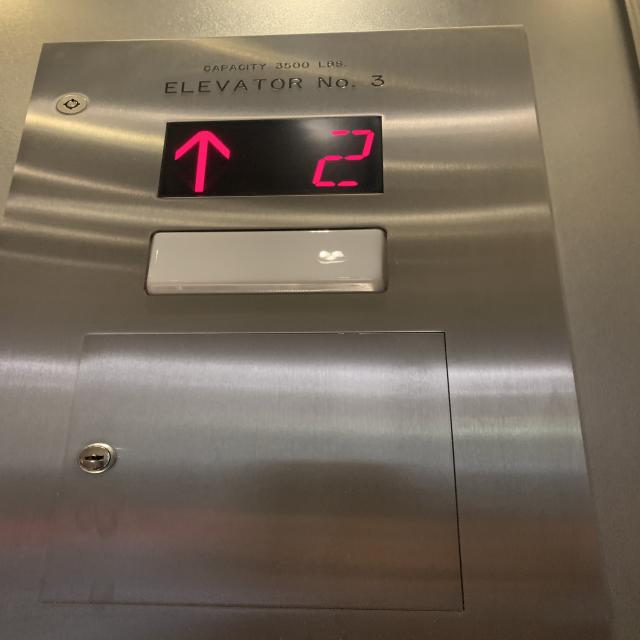box: (164, 116, 398, 203)
